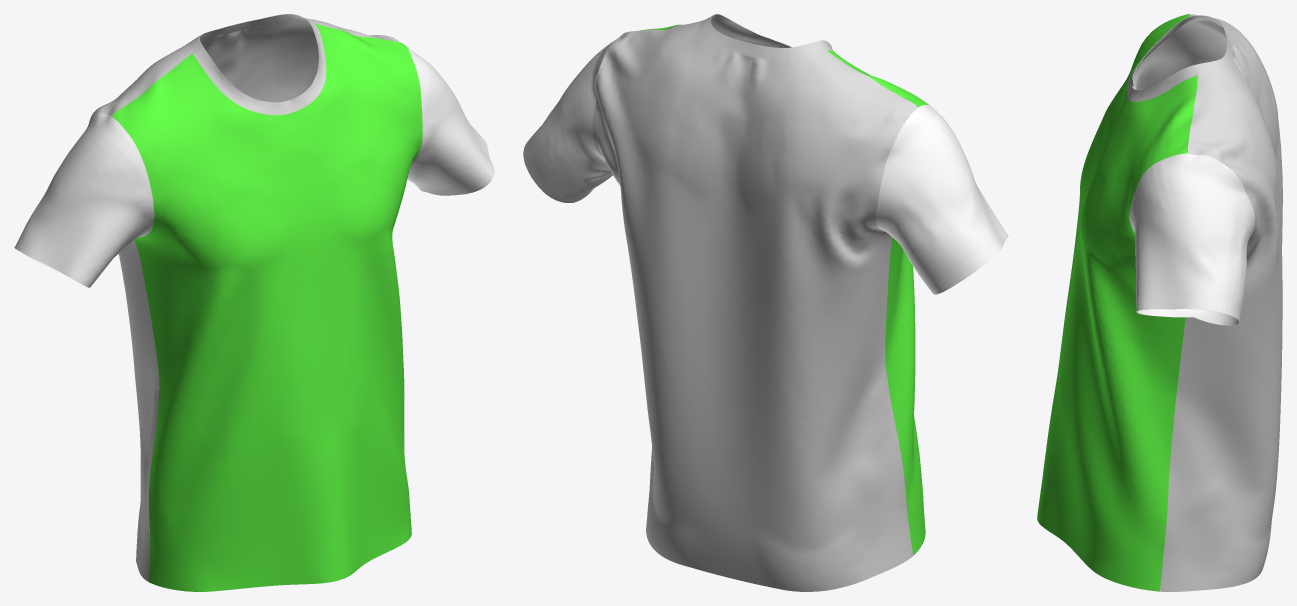
The model's file is t_shirt.glb.
3 views of the same model, side by side, from view 1: azimuth 30°, elevation 25°; view 2: azimuth 150°, elevation 25°; view 3: azimuth 270°, elevation 25° (orthographic). The views are drawn at different scales.
Visible parts, largest first — view 1: Body_Front_Node_4.001, Body_Back_Node_5.001, Sleeves_Node_7.001, Sleeves_Node_6.001, Ribbing_Node_3.001, Ribbing_Node_2.001; view 2: Body_Back_Node_5.001, Sleeves_Node_7.001, Body_Front_Node_4.001, Sleeves_Node_6.001, Ribbing_Node_2.001, Ribbing_Node_3.001; view 3: Body_Front_Node_4.001, Body_Back_Node_5.001, Sleeves_Node_6.001, Sleeves_Node_7.001, Ribbing_Node_3.001, Ribbing_Node_2.001.
Boxes of the visible parts, left/top/right/bottom form: Body_Front_Node_4.001: left=112, top=23, right=422, bottom=591; Body_Back_Node_5.001: left=91, top=17, right=397, bottom=581; Sleeves_Node_7.001: left=14, top=111, right=154, bottom=287; Sleeves_Node_6.001: left=396, top=39, right=494, bottom=195; Ribbing_Node_3.001: left=192, top=21, right=326, bottom=115; Ribbing_Node_2.001: left=189, top=14, right=313, bottom=52; Body_Back_Node_5.001: left=592, top=20, right=917, bottom=591; Sleeves_Node_7.001: left=876, top=105, right=1008, bottom=294; Body_Front_Node_4.001: left=623, top=21, right=929, bottom=555; Sleeves_Node_6.001: left=523, top=35, right=621, bottom=202; Ribbing_Node_2.001: left=699, top=14, right=826, bottom=60; Ribbing_Node_3.001: left=710, top=14, right=833, bottom=51; Body_Front_Node_4.001: left=1037, top=14, right=1197, bottom=591; Body_Back_Node_5.001: left=1160, top=14, right=1282, bottom=591; Sleeves_Node_6.001: left=1129, top=153, right=1254, bottom=325; Sleeves_Node_7.001: left=1133, top=18, right=1226, bottom=90; Ribbing_Node_3.001: left=1127, top=15, right=1197, bottom=101; Ribbing_Node_2.001: left=1193, top=15, right=1233, bottom=75.
Size of the model in its own units: 0.653 by 0.7016 by 0.3091.
